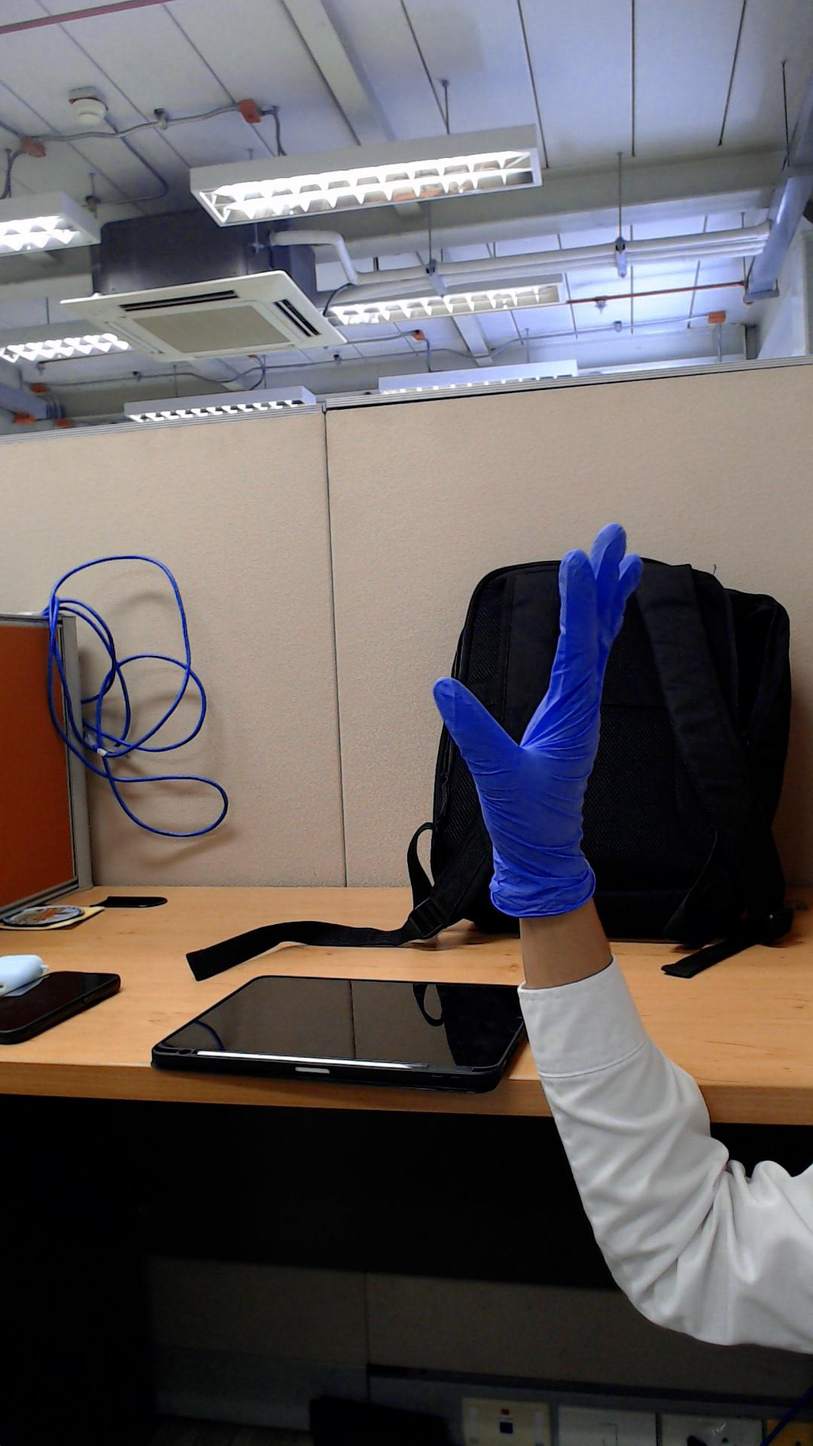gloves: (422, 510, 643, 822)
